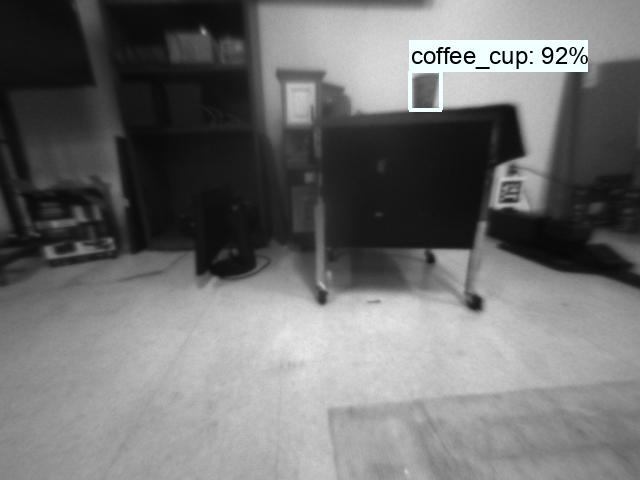coffee_cup: (408, 70, 441, 111)
